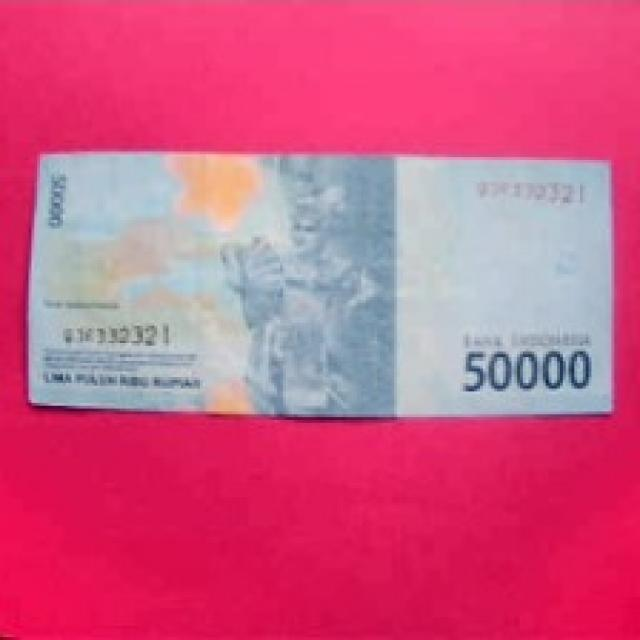dua ribu rupiah: (0, 115, 640, 498)
